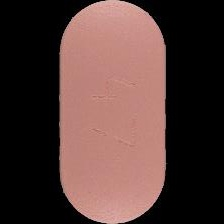68788-9728: (0, 0, 224, 224)
